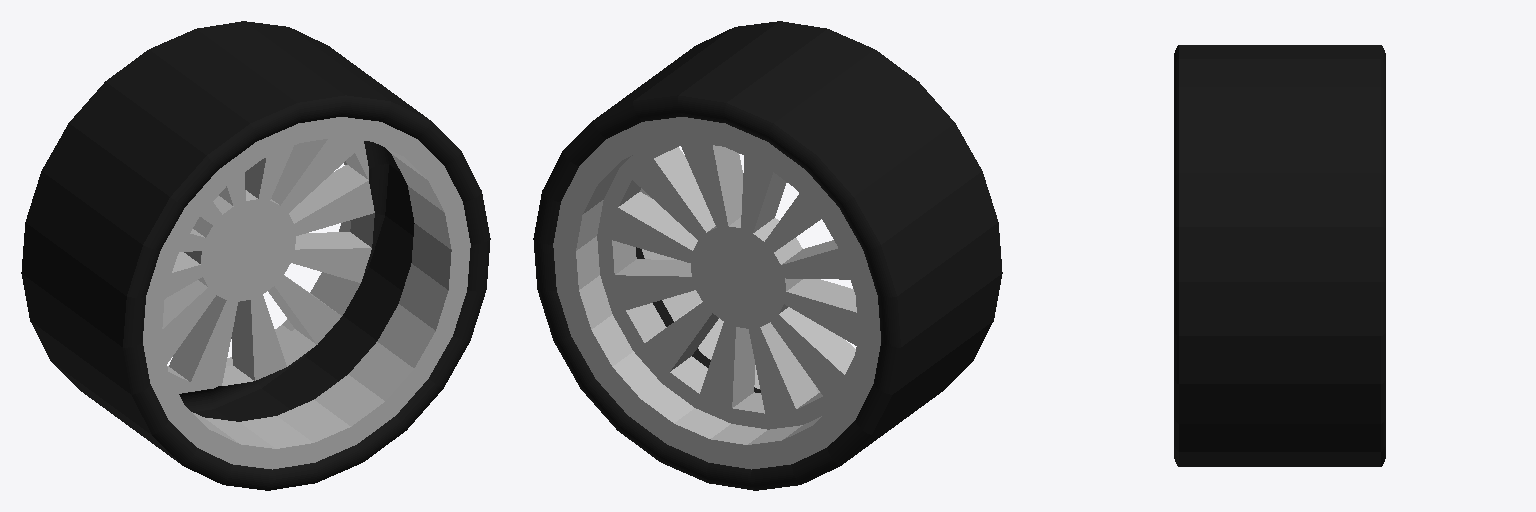
The model's file is right_Wheel.obj.
3 views of the same model, side by side, from view 1: azimuth 30°, elevation 25°; view 2: azimuth 150°, elevation 25°; view 3: azimuth 270°, elevation 25° (orthographic).
Parts seen in each view (by area): view 1: Mesh1 Group1 Model; view 2: Mesh1 Group1 Model; view 3: Mesh1 Group1 Model.
Boxes of the visible parts, box(x1,y1,x2,y2) form: Mesh1 Group1 Model: box(21, 21, 490, 490); Mesh1 Group1 Model: box(533, 21, 1002, 490); Mesh1 Group1 Model: box(1174, 45, 1385, 466).
Size of the model in its own units: 2.96 by 2.96 by 1.48.